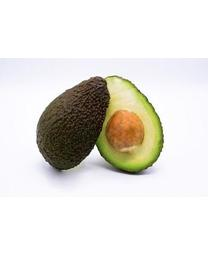avocado: (36, 76, 110, 172), (93, 74, 163, 174)
